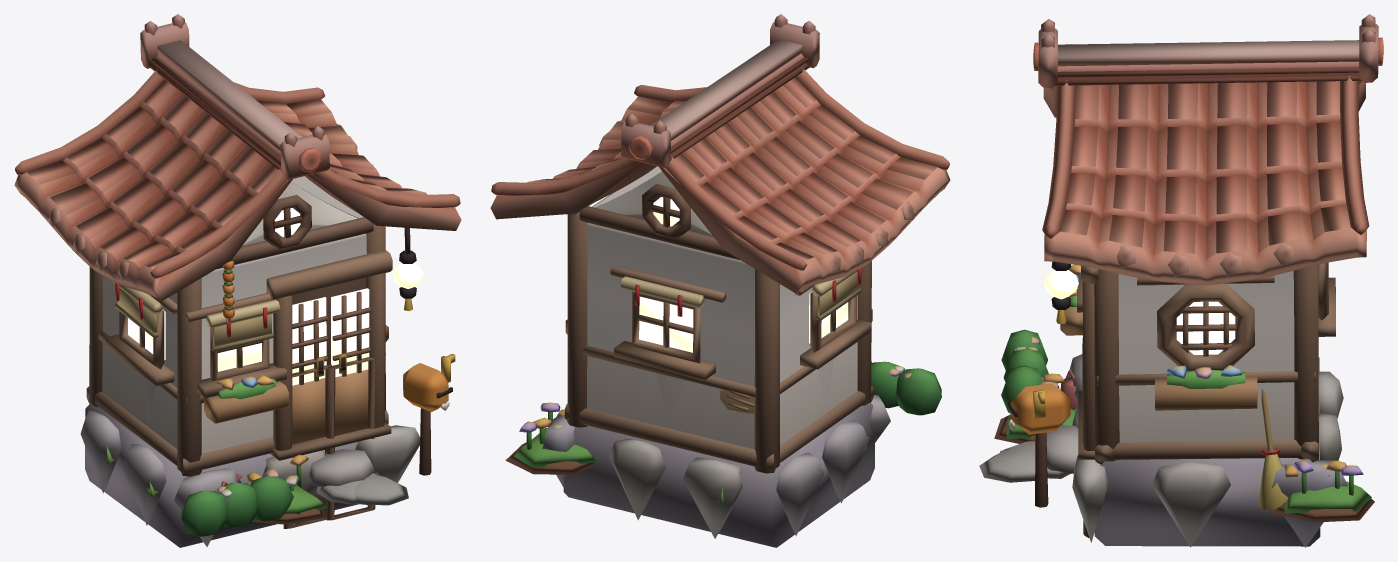
The model's file is home-1-v7.glb.
The picture shows the model from 3 angles, left to right: view 1: azimuth 30°, elevation 25°; view 2: azimuth 150°, elevation 25°; view 3: azimuth 270°, elevation 25°; orthographic projection. The views are drawn at different scales.
Visible parts, largest first — view 1: home, window_glow; view 2: home, window_glow; view 3: home, window_glow.
Boxes of the visible parts, x1=… form: home: x1=14, y1=14, x2=461, y2=547; window_glow: x1=128, y1=208, x2=423, y2=385; home: x1=490, y1=14, x2=950, y2=547; window_glow: x1=639, y1=197, x2=848, y2=352; home: x1=979, y1=14, x2=1383, y2=547; window_glow: x1=1044, y1=270, x2=1235, y2=354.
Size of the model in its own units: 2.28 by 2.94 by 2.3.
